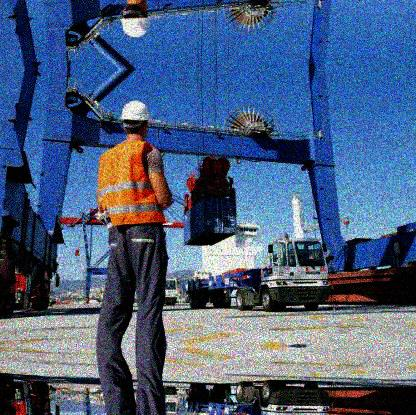helmet: (118, 3, 155, 39), (119, 100, 153, 137)
